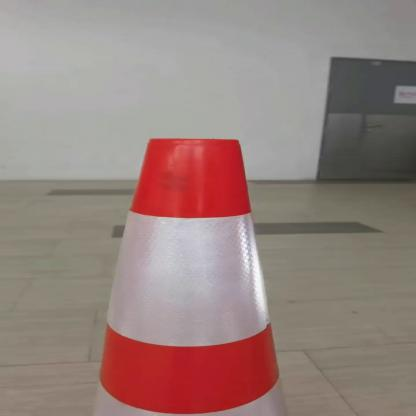cone: (80, 130, 301, 416)
